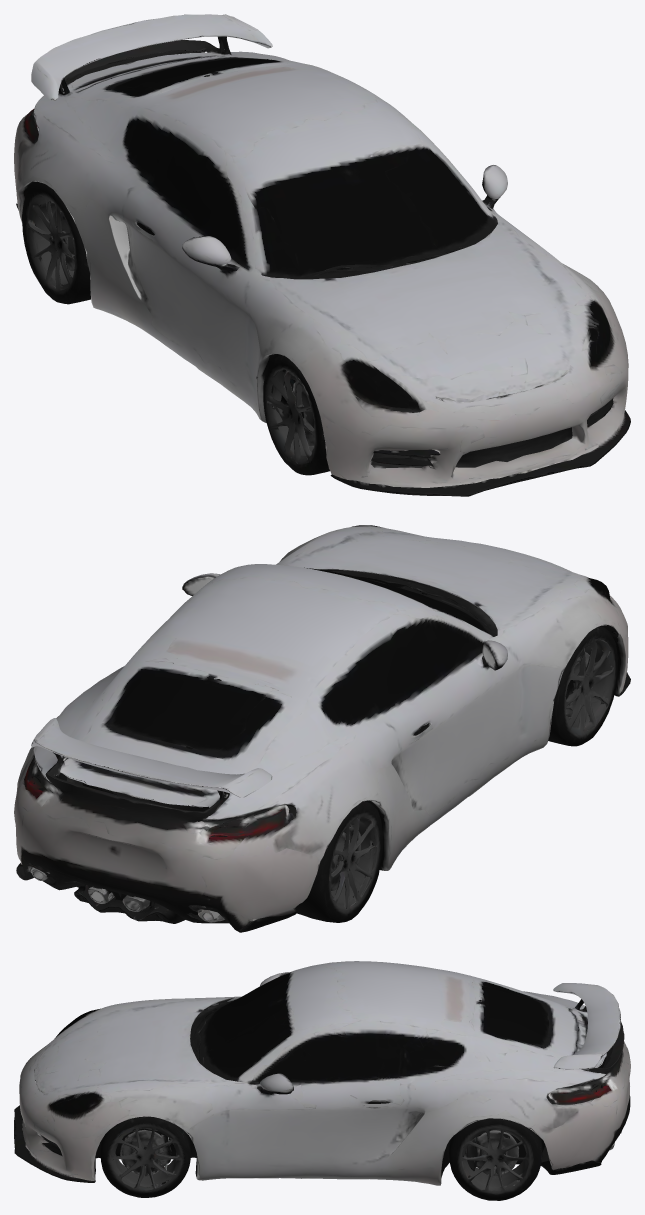
File: car_white.0.glb
3 renders of one model, top to bottom at view 1: azimuth 30°, elevation 25°; view 2: azimuth 150°, elevation 25°; view 3: azimuth 270°, elevation 25°, orthographic. The views are drawn at different scales.
Visible parts, largest first — view 1: geometry_0; view 2: geometry_0; view 3: geometry_0.
Boxes of the visible parts, left/top/right/bottom form: geometry_0: left=14, top=14, right=630, bottom=496; geometry_0: left=14, top=525, right=630, bottom=932; geometry_0: left=14, top=961, right=630, bottom=1200.
Bounding box in the file's own units: 0.4377 × 0.2918 × 0.9999.
Materials: 1 (1 with a texture image).
